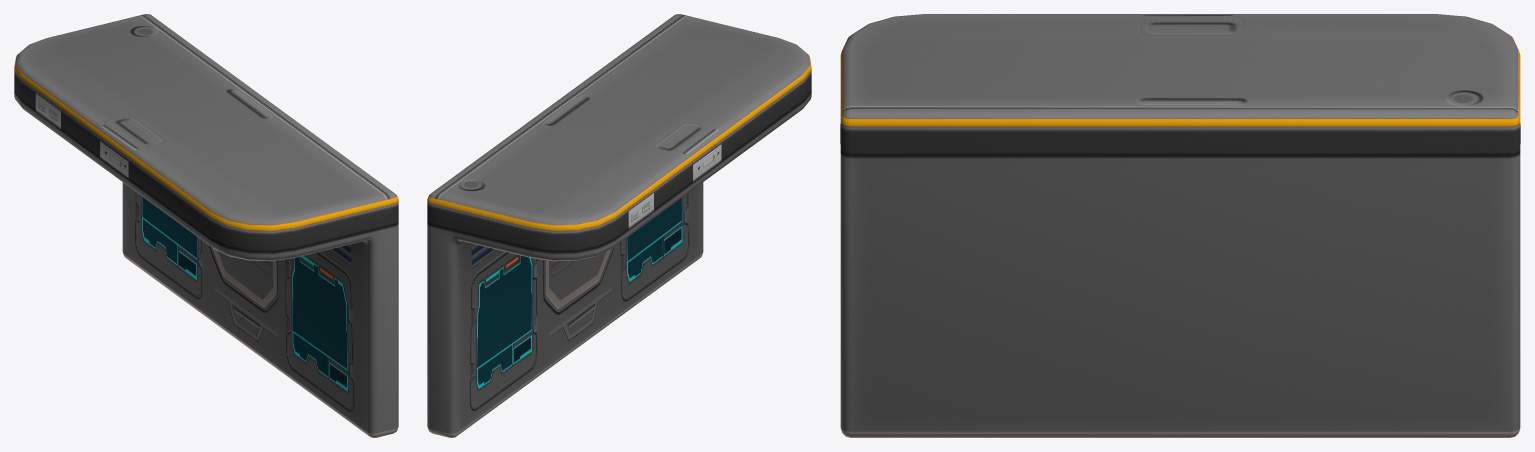
File: Metalwall.fbx
3 renders of one model, left to right at view 1: azimuth 30°, elevation 25°; view 2: azimuth 150°, elevation 25°; view 3: azimuth 270°, elevation 25°, orthographic. The views are drawn at different scales.
Visible parts, largest first — view 1: Metalwall; view 2: Metalwall; view 3: Metalwall.
Boxes of the visible parts, bbox=[...] form: Metalwall: bbox=[14, 14, 398, 437]; Metalwall: bbox=[427, 14, 811, 437]; Metalwall: bbox=[840, 14, 1520, 437].
Bounding box in the file's own units: 139 × 201 × 380.
